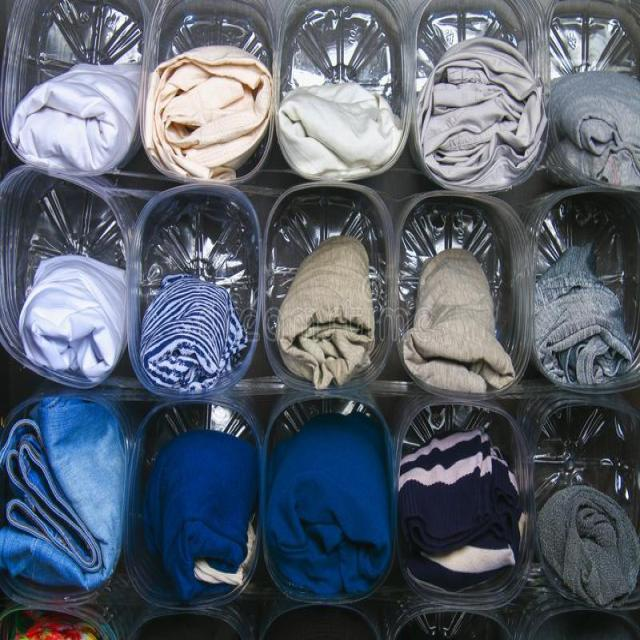clothes: (44, 67, 609, 598)
